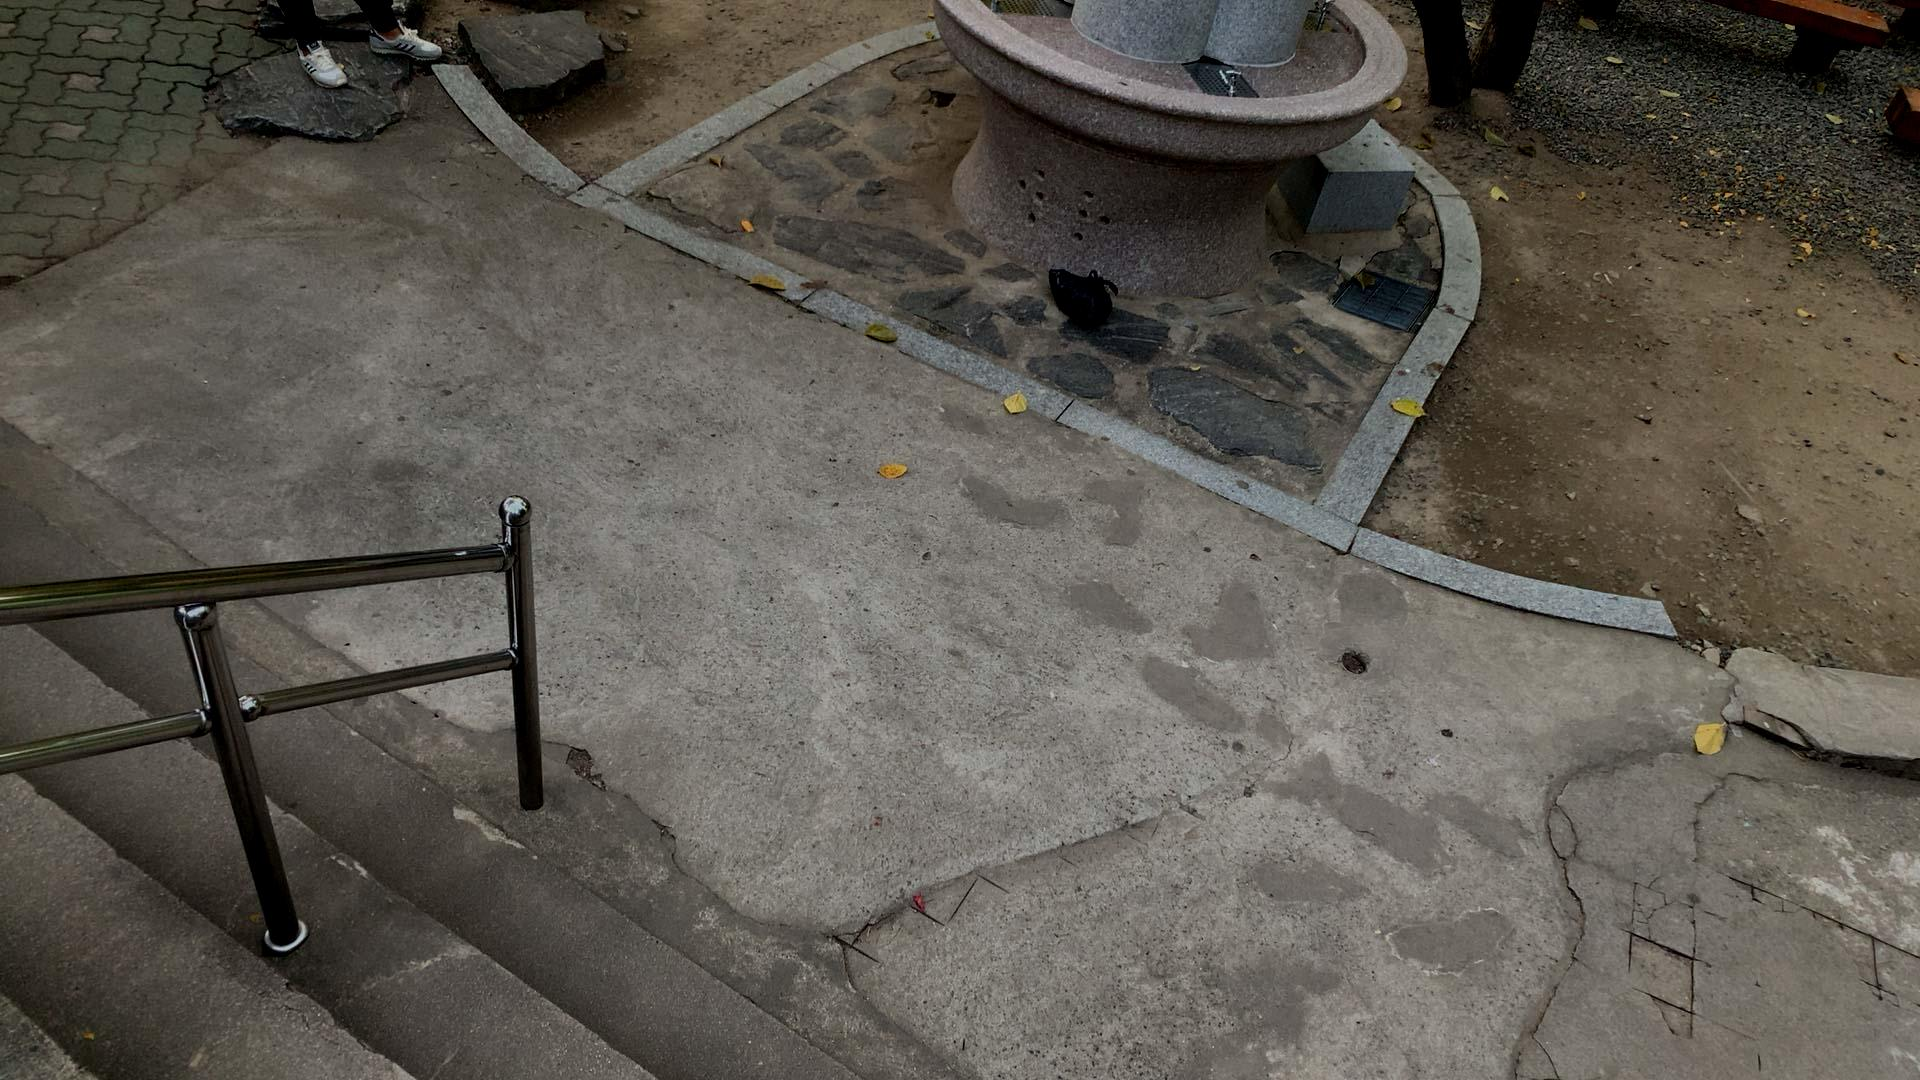black_bag: (1042, 258, 1122, 330)
